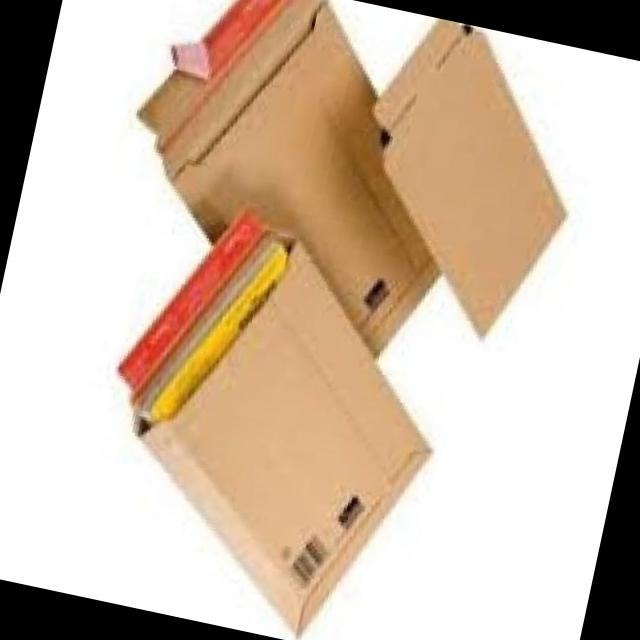cardboard paper: (120, 215, 430, 636), (140, 0, 438, 355), (374, 19, 565, 337)
